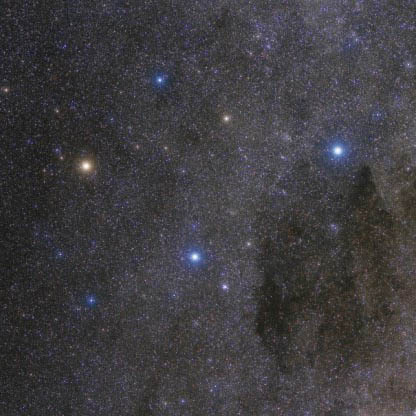Southern Cross: (69, 144, 108, 192), (177, 241, 212, 277), (324, 133, 359, 167), (138, 67, 171, 97)
